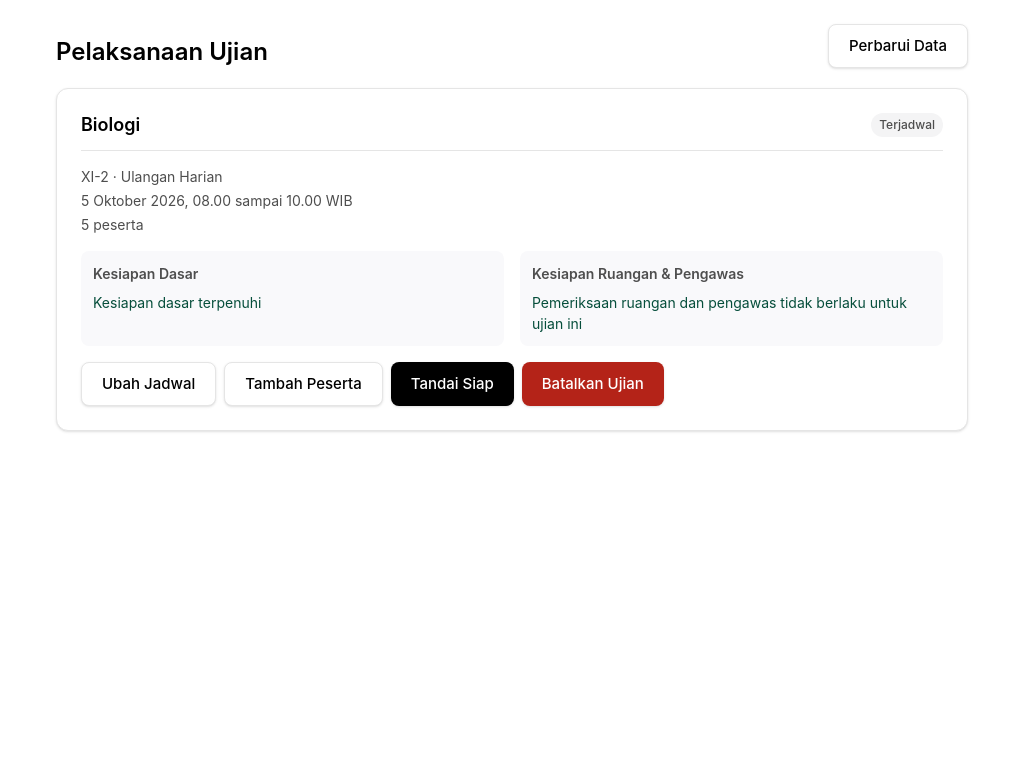
Test case: adding participants on the teacher screen › says when everyone already takes part, and why nobody can be added to an exam run with rooms
Click the button "Tambah Peserta".
click(303, 384)  # box [224,362,383,406]
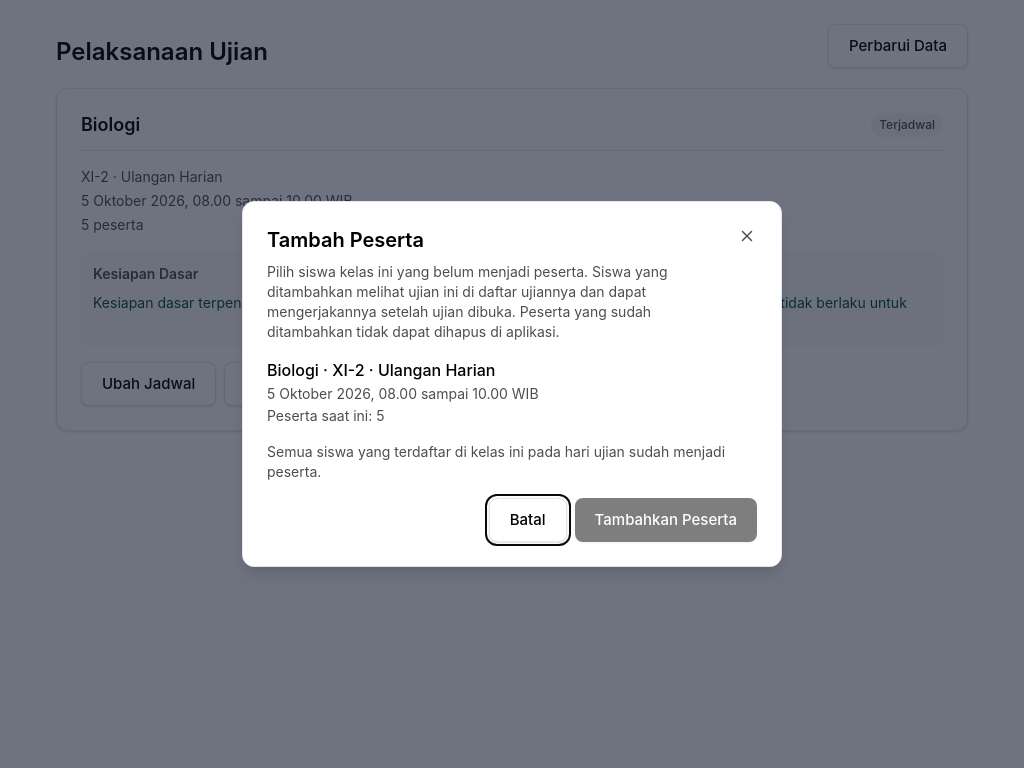
Check: the text "Semua siswa yang terdaftar di kelas ini pada hari ujian sudah menjadi peserta." is shown, box [267,442,757,482]
Check: the button "Tambahkan Peserta" is disabled, box [575,498,757,542]
Click the button "Batal".
click(528, 520)  # box [489,498,567,542]
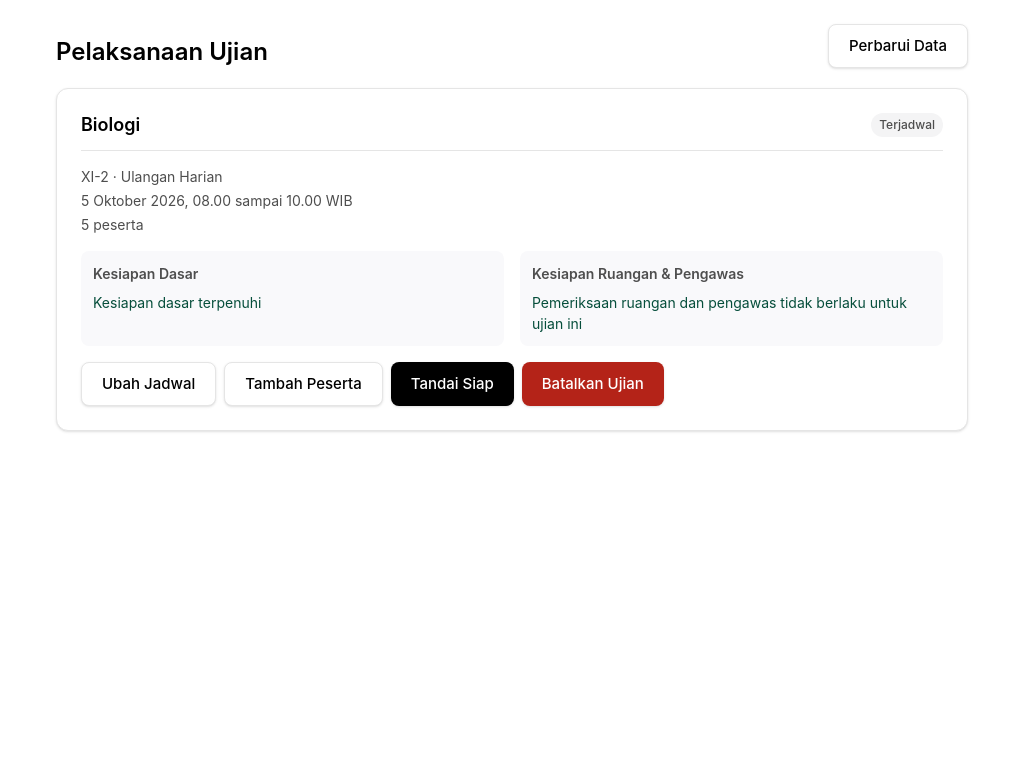
Check: the dialog is gone
Click the button "Tambah Peserta".
click(303, 384)  # box [224,362,383,406]
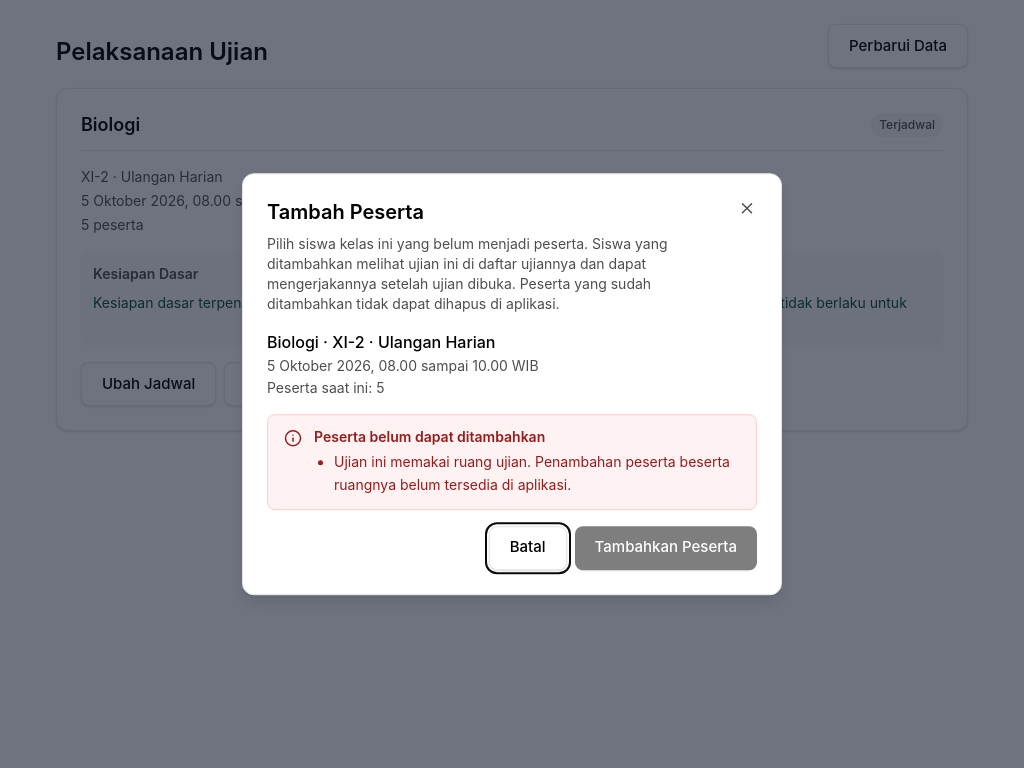
Check: the text "Peserta belum dapat ditambahkan" is shown, box [314,428,545,445]
Check: the list item "Penambahan peserta beserta ruangnya belum tersedia di aplikasi" is shown, box [334,453,730,493]
Check: the button "Tambahkan Peserta" is disabled, box [575,526,757,570]
